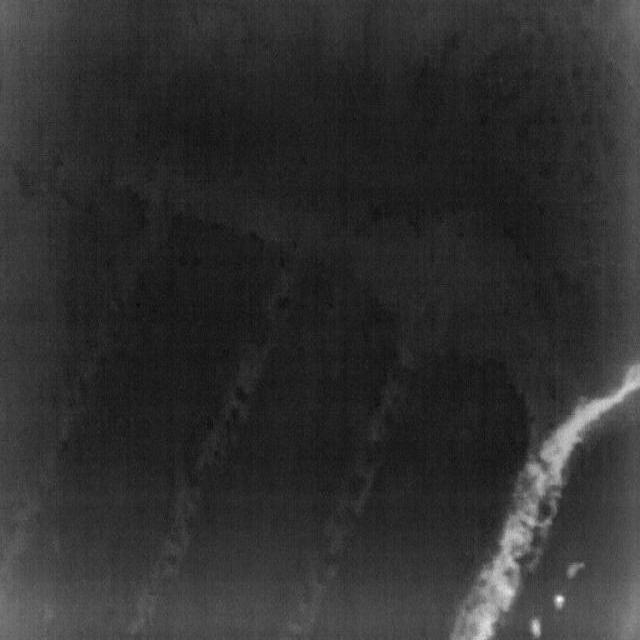deer: (528, 616, 544, 640), (566, 561, 586, 580), (554, 594, 568, 614)
